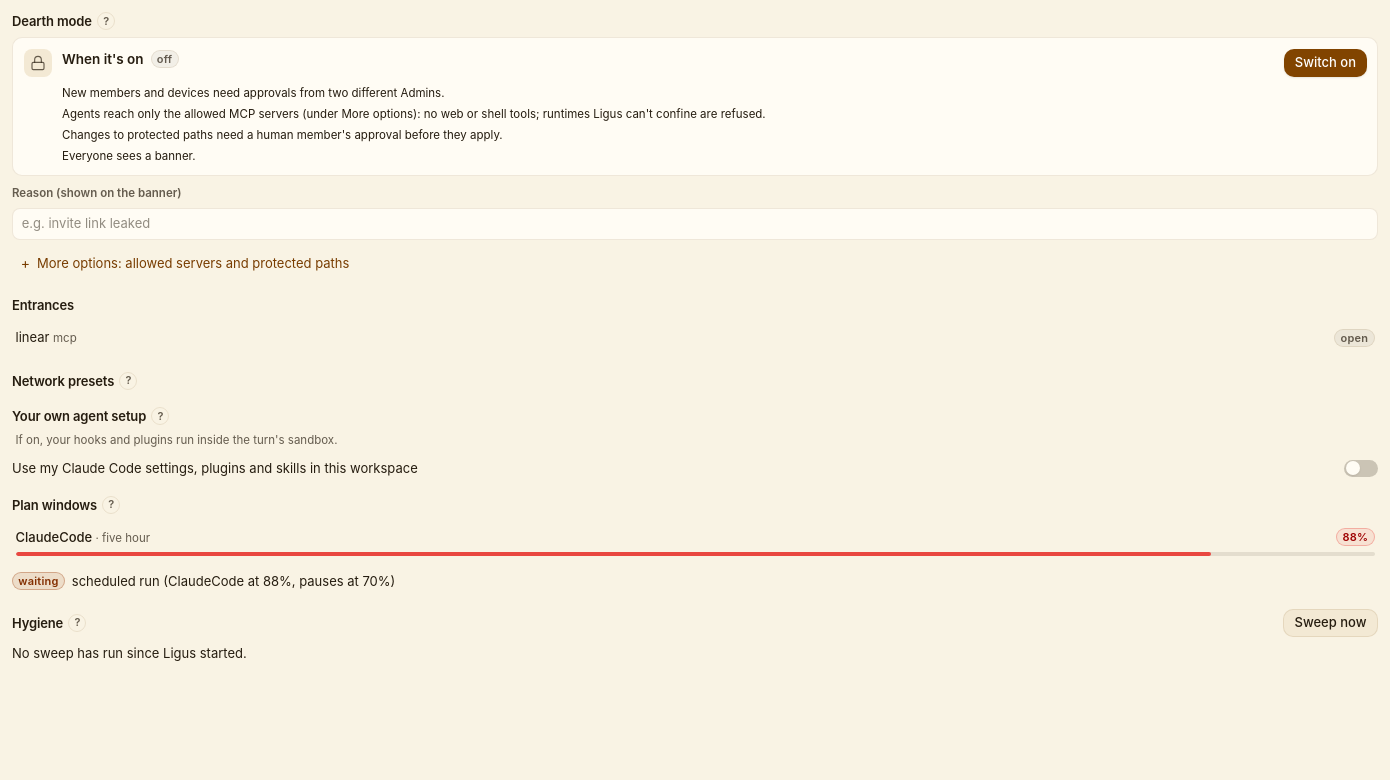
hygiene › sweeps on demand
The image size is (1390, 780).
What coordinates should you click on to do the following:
click the button "Sweep now"
I would click on:
 (1330, 622)
Its box is [1283, 608, 1378, 636].
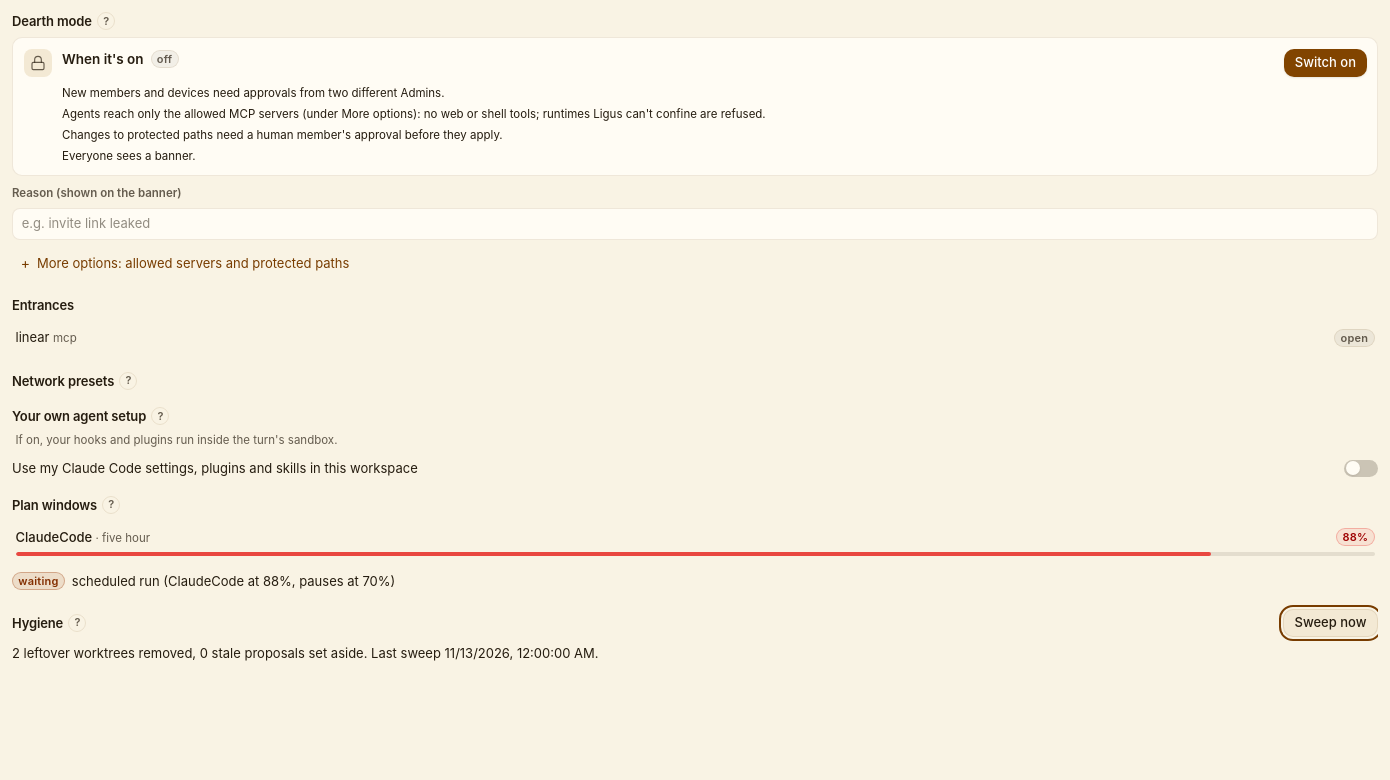
Result: the text with test id "hygiene-summary" shows "2 leftover worktrees removed" at [12, 644, 367, 660]
